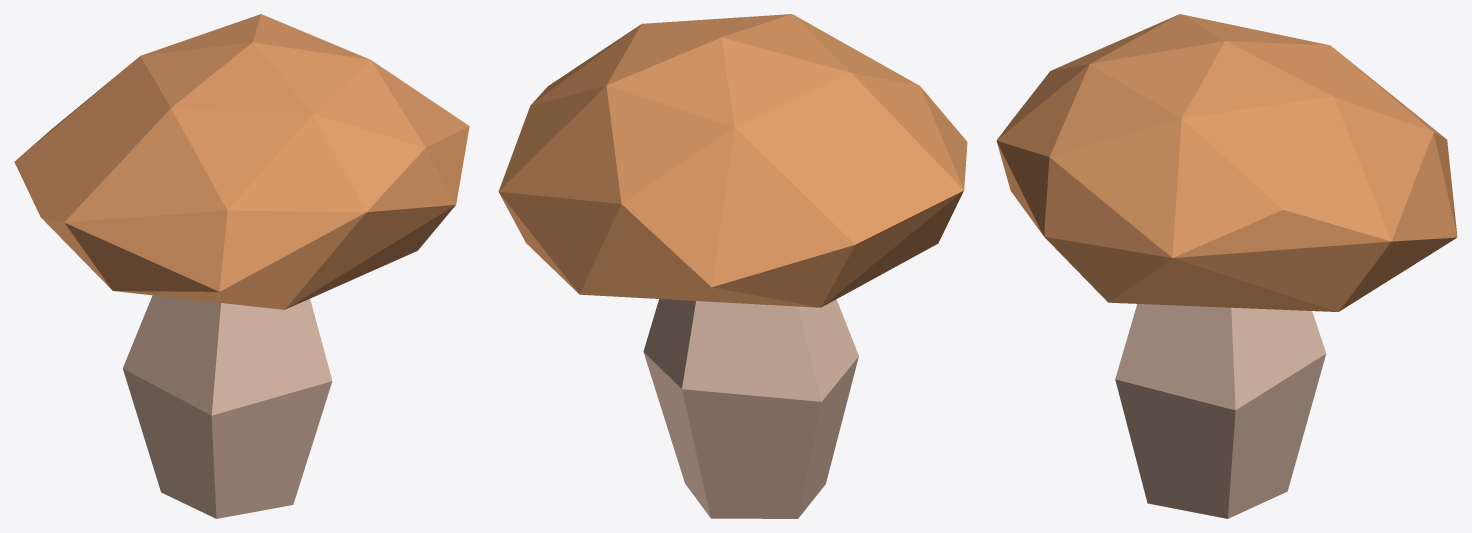
File: Mushroom_f_02.fbx
3 views of the same model, side by side, from view 1: azimuth 30°, elevation 25°; view 2: azimuth 150°, elevation 25°; view 3: azimuth 270°, elevation 25° (orthographic). The views are drawn at different scales.
Parts seen in each view (by area): view 1: Mushroom_f_02; view 2: Mushroom_f_02; view 3: Mushroom_f_02.
Part boxes in pixels (<box>): Mushroom_f_02: <box>14,14,469,518</box>; Mushroom_f_02: <box>498,14,967,518</box>; Mushroom_f_02: <box>996,14,1457,518</box>.
Bounding box in the file's own units: 24.12 × 24.98 × 22.66.
